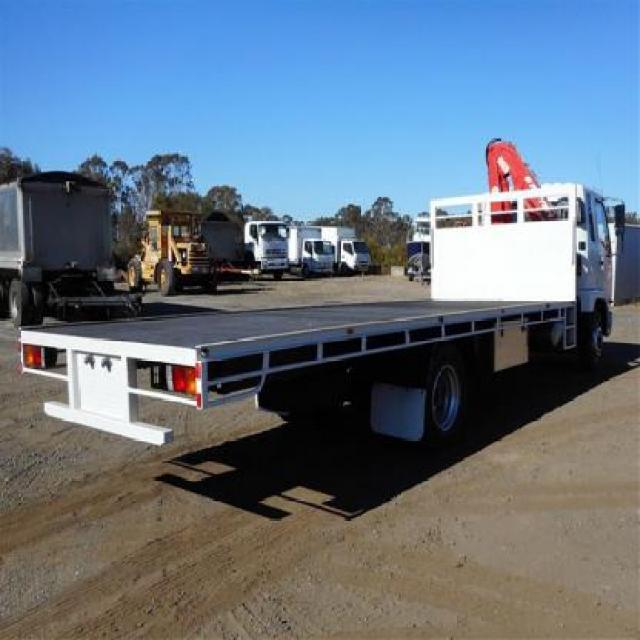truck: (17, 136, 616, 490)
